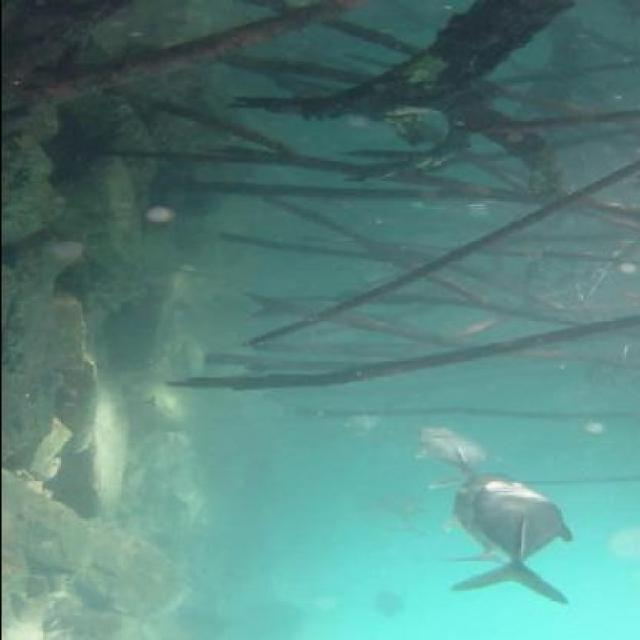Caranx_sexfasciatus_juvenile: (446, 478, 579, 604), (414, 472, 548, 568), (403, 424, 506, 488), (380, 488, 429, 542)
